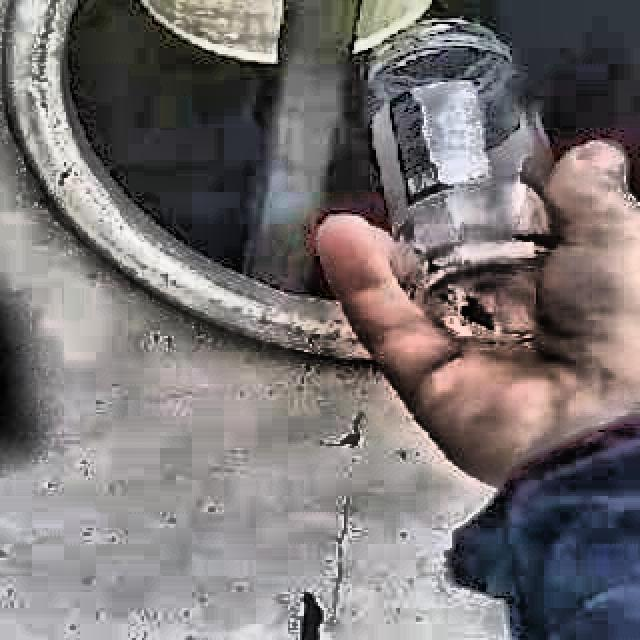glass: (368, 20, 549, 340)
